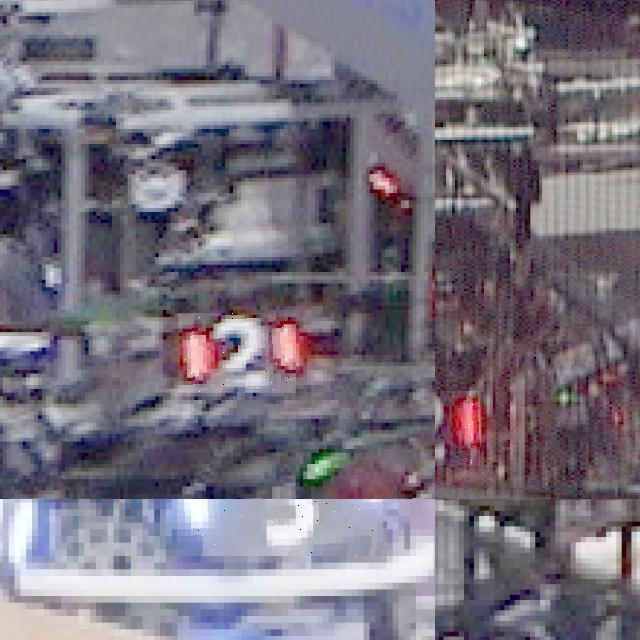B3: (177, 499, 386, 555)
B4: (0, 499, 43, 582)
R2: (178, 313, 296, 393), (435, 390, 479, 466)
